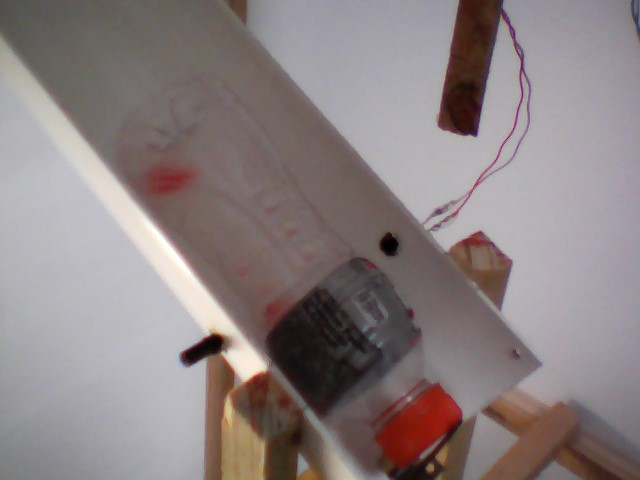plastico: (79, 65, 464, 464)
